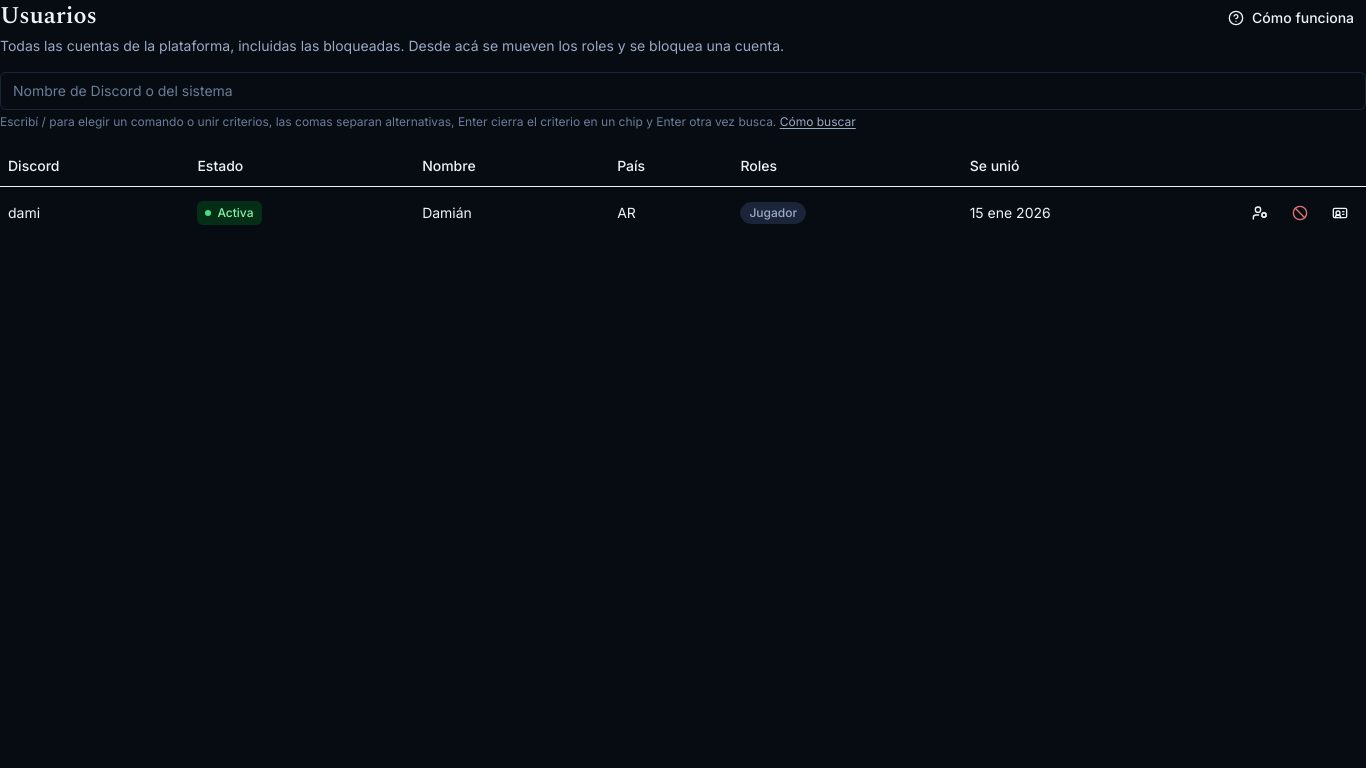
AdminUsersPage › the owner is offered Player, Master and Admin and never Owner to grant
Step 1. Click the button named "Cambiar roles" → point(1260, 212), box [1242,194,1278,230]
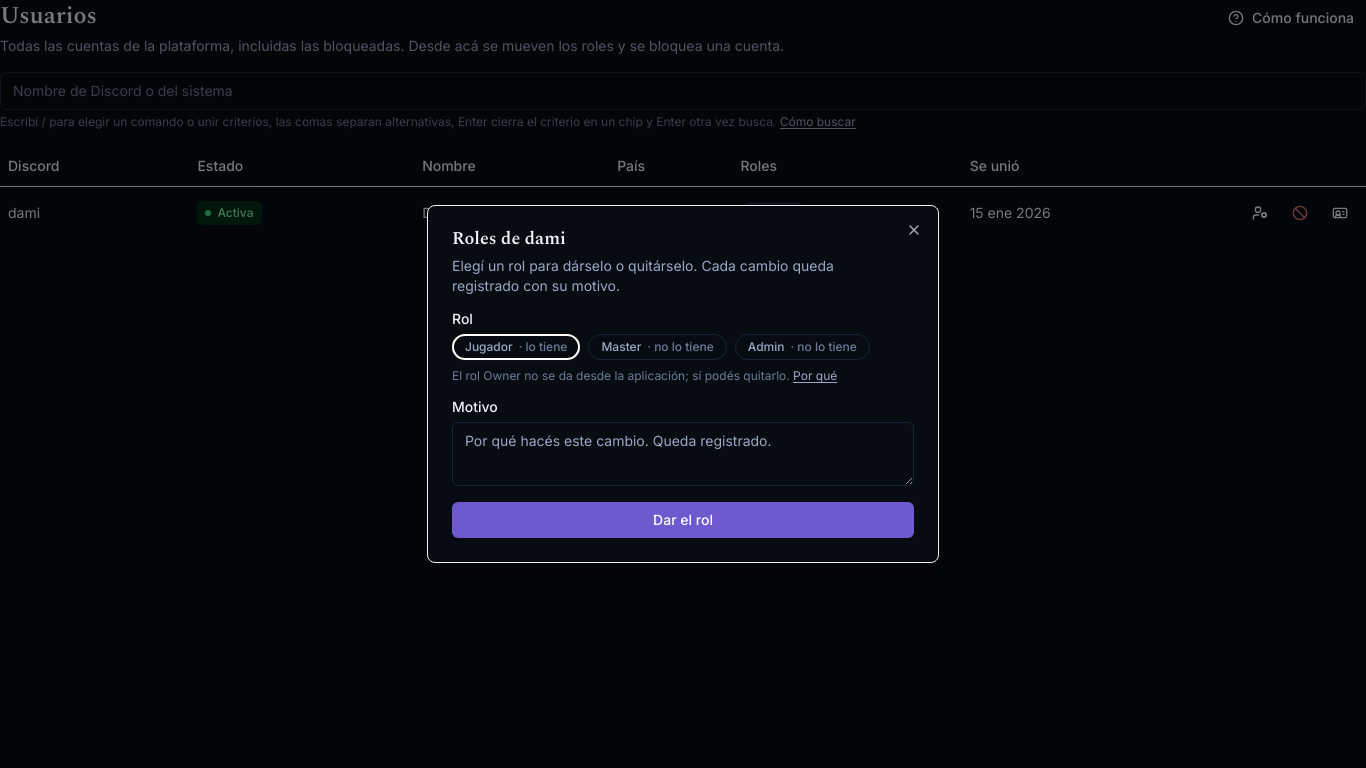
Now the button "Jugador· lo tiene" is shown, box [452,334,580,360]
Now the button "Master· no lo tiene" is shown, box [588,334,727,360]
Now the button "Admin· no lo tiene" is shown, box [735,334,870,360]
